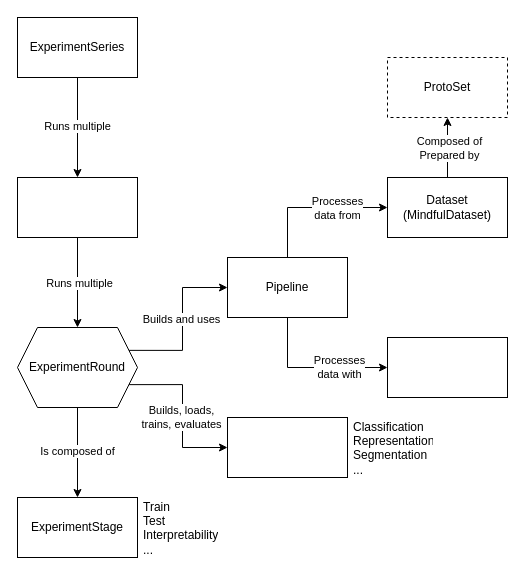
Image size: 525x575. Some labels were removed from this diagram. Each missing label, with the centre of its shape:
"Experiment" belongs at point (77, 207).
"Model (MindfulModule)" belongs at point (287, 447).
"Transform" belongs at point (447, 367).
